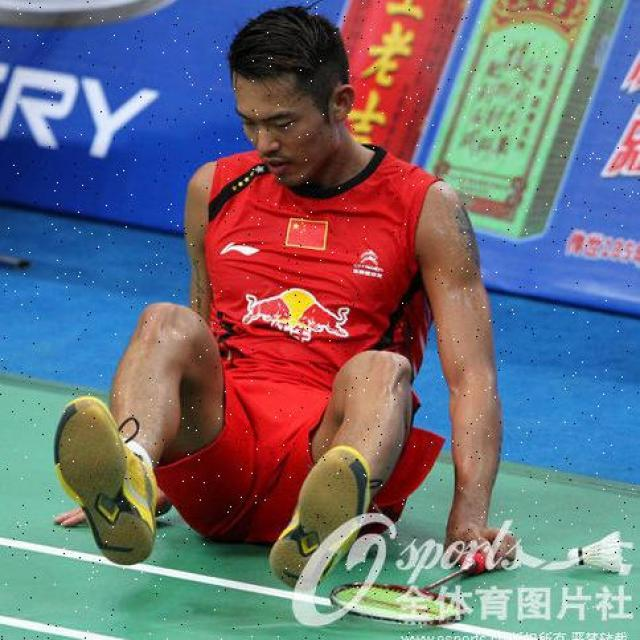fall: (70, 34, 518, 606)
